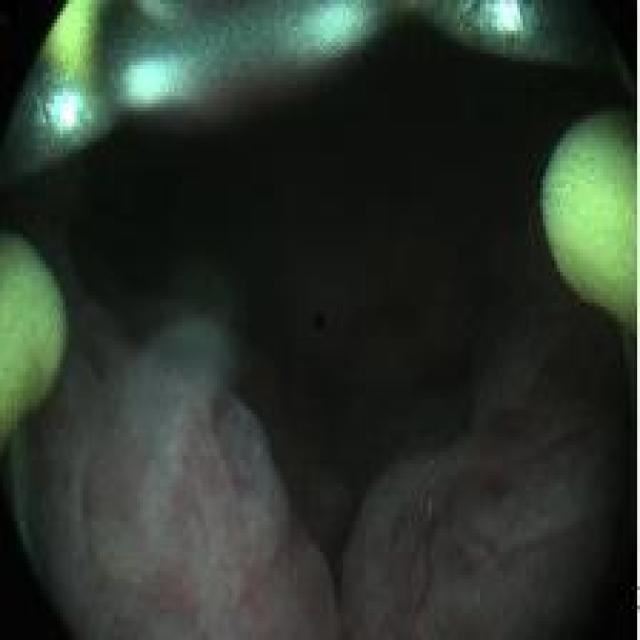color misalignment: (310, 305, 329, 334)
contrast: (66, 94, 605, 534)
instrument: (5, 6, 617, 164), (541, 101, 634, 340), (1, 227, 72, 457)
specularity: (46, 93, 87, 134), (484, 6, 527, 31)
